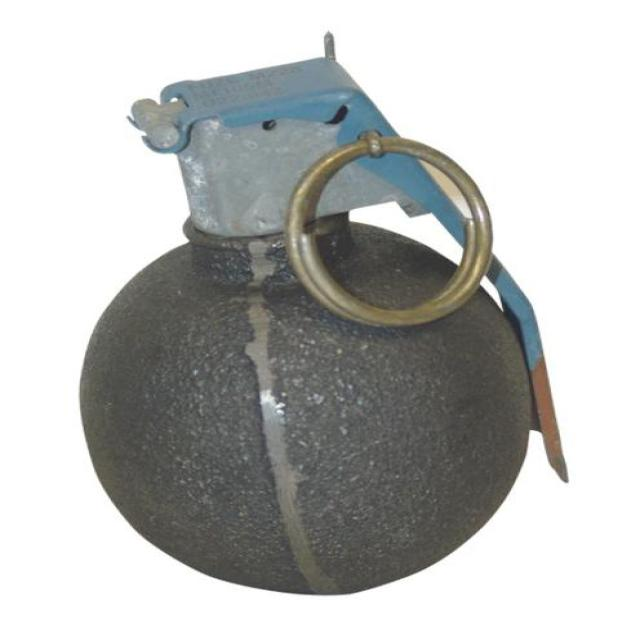grenade: (77, 35, 571, 597)
